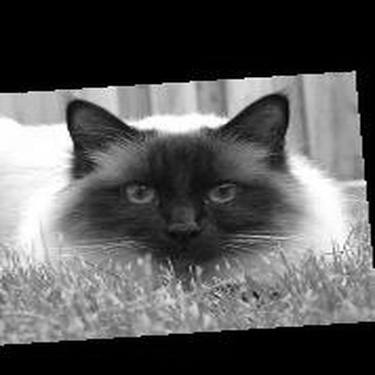cat: (1, 91, 355, 292)
